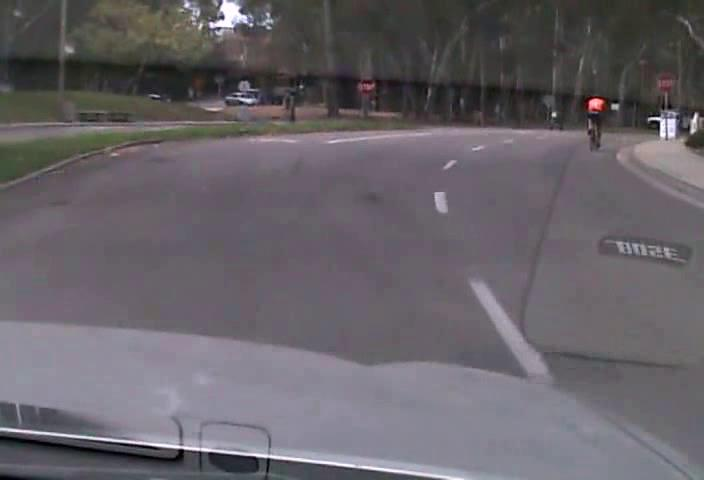stop: (356, 78, 376, 96)
